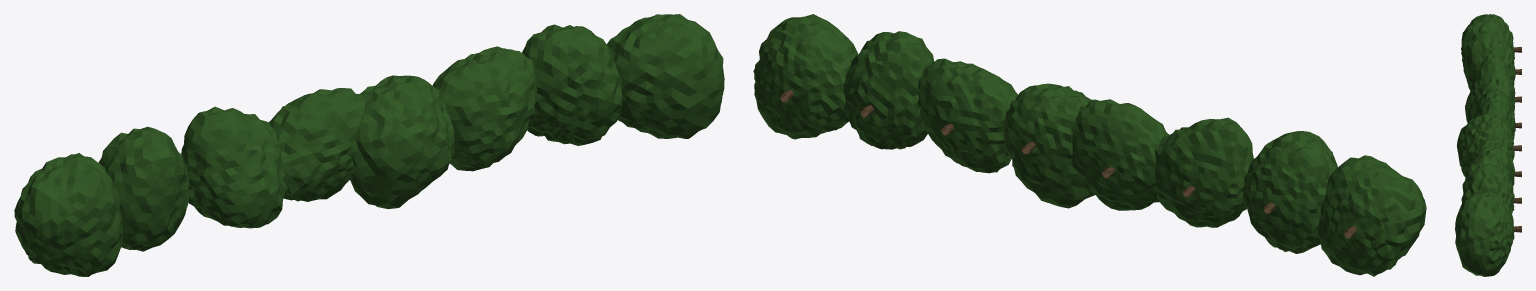
The model's file is citrus_run8_f.obj.
3 views of the same model, side by side, from view 1: azimuth 30°, elevation 25°; view 2: azimuth 150°, elevation 25°; view 3: azimuth 270°, elevation 25° (orthographic). The views are drawn at different scales.
Parts seen in each view (by area): view 1: canopy; view 2: canopy, trunk; view 3: canopy, trunk.
Boxes of the visible parts, box(x1,y1,x2,y2) form: canopy: box(14, 14, 724, 276); canopy: box(753, 14, 1426, 276); trunk: box(780, 89, 1356, 238); canopy: box(1455, 14, 1515, 276); trunk: box(1513, 47, 1521, 232).
Bounding box in the file's own units: 24.81 × 4.68 × 3.32.
